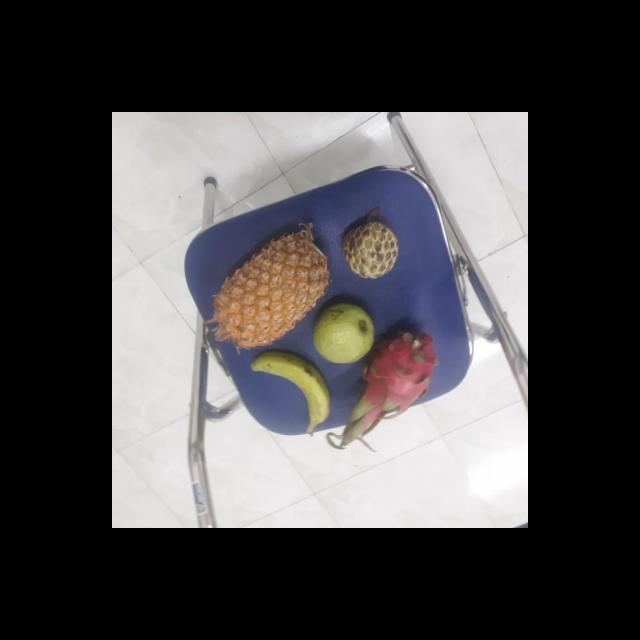Sakya fruit: (336, 220, 398, 279)
banana: (246, 352, 329, 434)
guava: (310, 304, 376, 364)
pineapple: (208, 224, 329, 348)
pitaya: (341, 330, 434, 431)
